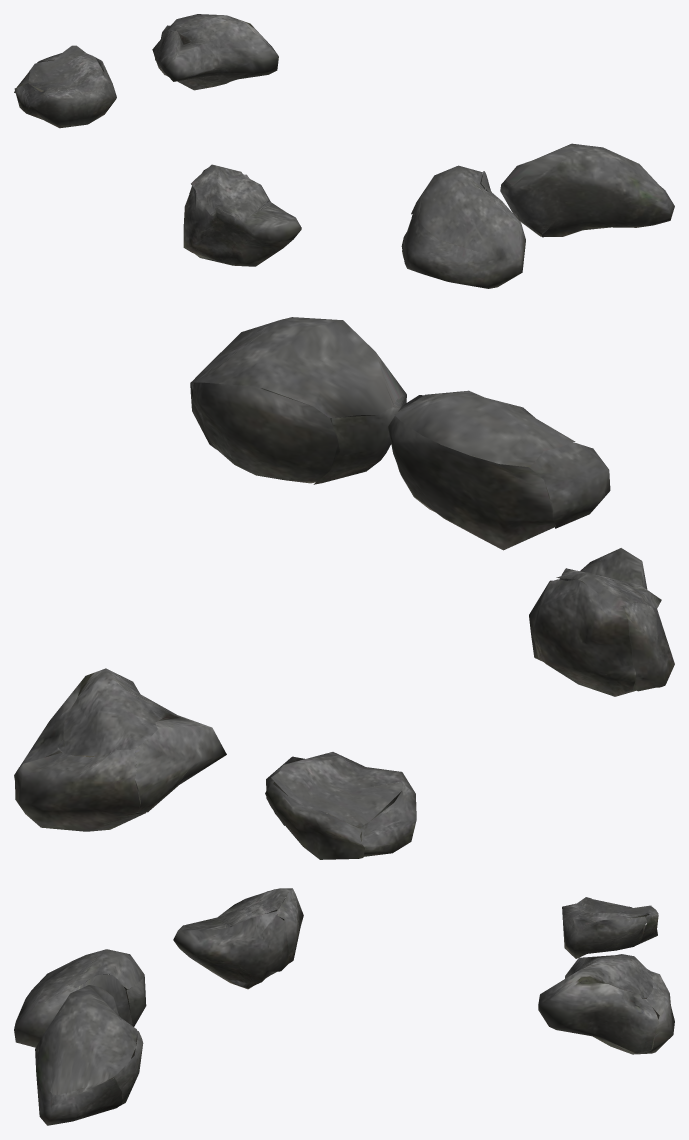
The model's file is small-rocks.glb.
The picture shows the model from 3 angles, top to bottom: view 1: azimuth 30°, elevation 25°; view 2: azimuth 150°, elevation 25°; view 3: azimuth 270°, elevation 25°; orthographic projection. The views are drawn at different scales.
Visible parts, largest first — view 1: Object_5; view 2: Object_5; view 3: Object_5.
Part boxes in pixels (bbox=[...]): Object_5: bbox=[14, 14, 674, 288]; Object_5: bbox=[14, 317, 674, 859]; Object_5: bbox=[14, 888, 674, 1125].
Bounding box in the file's own units: 2.7 × 0.7338 × 3.73.
1 material, 1 textured.
